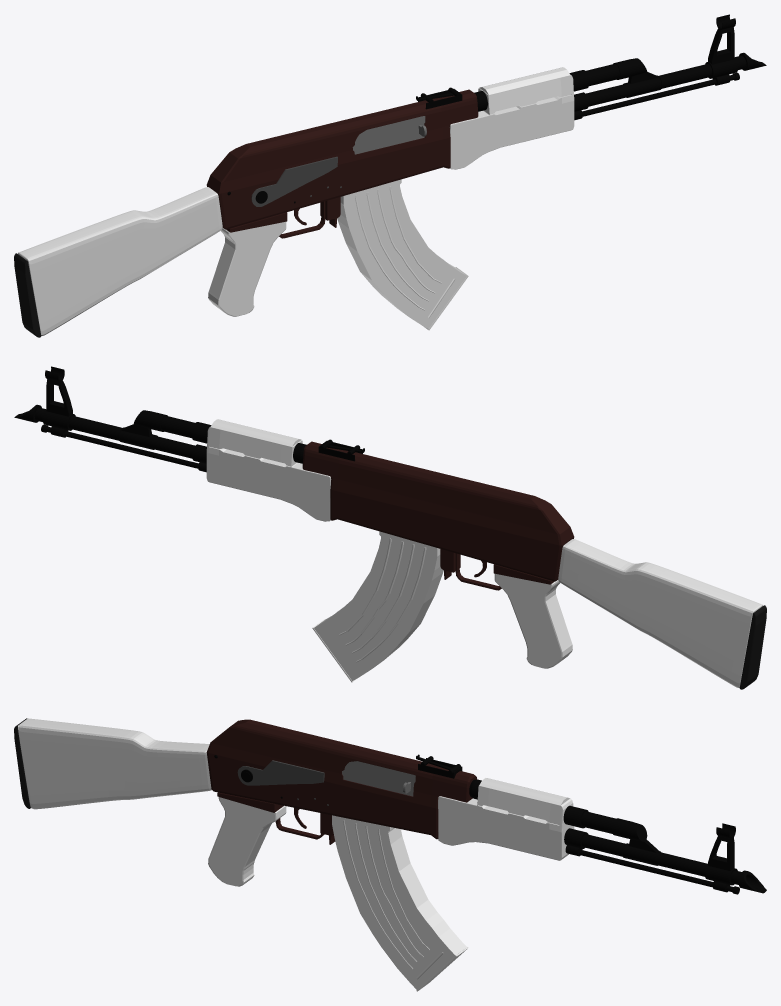
3 views of the same model, one above another, from view 1: azimuth 30°, elevation 25°; view 2: azimuth 150°, elevation 25°; view 3: azimuth 330°, elevation 25° (orthographic).
Visible parts, largest first — view 1: Body, Stock 1, Mag, Handle.001, Handle, Barrel Main, Rechamber Slide, Saftey Switch, Stock 2, Line, Tube Cover, Sight P6.001; view 2: Body, Stock 1, Mag, Handle.001, Handle, Barrel Main, Stock 2, Line, Tube Cover, Sight P6.001; view 3: Body, Stock 1, Mag, Handle.001, Handle, Barrel Main, Rechamber Slide, Saftey Switch, Tube Cover, Line, Sight P6.001, Upper Barrel Tube (+2 smaller).
Boxes of the visible parts, bbox=[...] form: Body: bbox=[206, 89, 478, 229]; Stock 1: bbox=[18, 187, 222, 335]; Mag: bbox=[337, 179, 468, 330]; Handle.001: bbox=[449, 67, 574, 169]; Handle: bbox=[208, 221, 286, 316]; Barrel Main: bbox=[586, 55, 746, 106]; Rechamber Slide: bbox=[352, 116, 426, 154]; Saftey Switch: bbox=[251, 156, 337, 206]; Stock 2: bbox=[14, 253, 41, 337]; Line: bbox=[582, 74, 735, 116]; Tube Cover: bbox=[613, 58, 661, 97]; Sight P6.001: bbox=[708, 26, 734, 64]; Body: bbox=[302, 441, 574, 581]; Stock 1: bbox=[558, 539, 762, 687]; Mag: bbox=[312, 531, 443, 682]; Handle.001: bbox=[206, 419, 331, 521]; Handle: bbox=[494, 573, 572, 668]; Barrel Main: bbox=[34, 407, 194, 458]; Stock 2: bbox=[739, 605, 766, 689]; Line: bbox=[45, 426, 198, 468]; Tube Cover: bbox=[119, 410, 167, 449]; Sight P6.001: bbox=[46, 378, 72, 416]; Body: bbox=[206, 719, 477, 839]; Stock 1: bbox=[18, 718, 211, 809]; Mag: bbox=[332, 815, 468, 991]; Handle.001: bbox=[438, 778, 574, 860]; Handle: bbox=[208, 797, 286, 886]; Barrel Main: bbox=[581, 834, 741, 884]; Rechamber Slide: bbox=[342, 761, 415, 796]; Saftey Switch: bbox=[237, 760, 324, 785]; Tube Cover: bbox=[612, 818, 660, 865]; Line: bbox=[579, 849, 733, 892]; Sight P6.001: bbox=[708, 835, 734, 871]; Upper Barrel Tube: bbox=[581, 811, 615, 833].
Bounding box in the file's own units: 2066 × 621 × 83.36.
